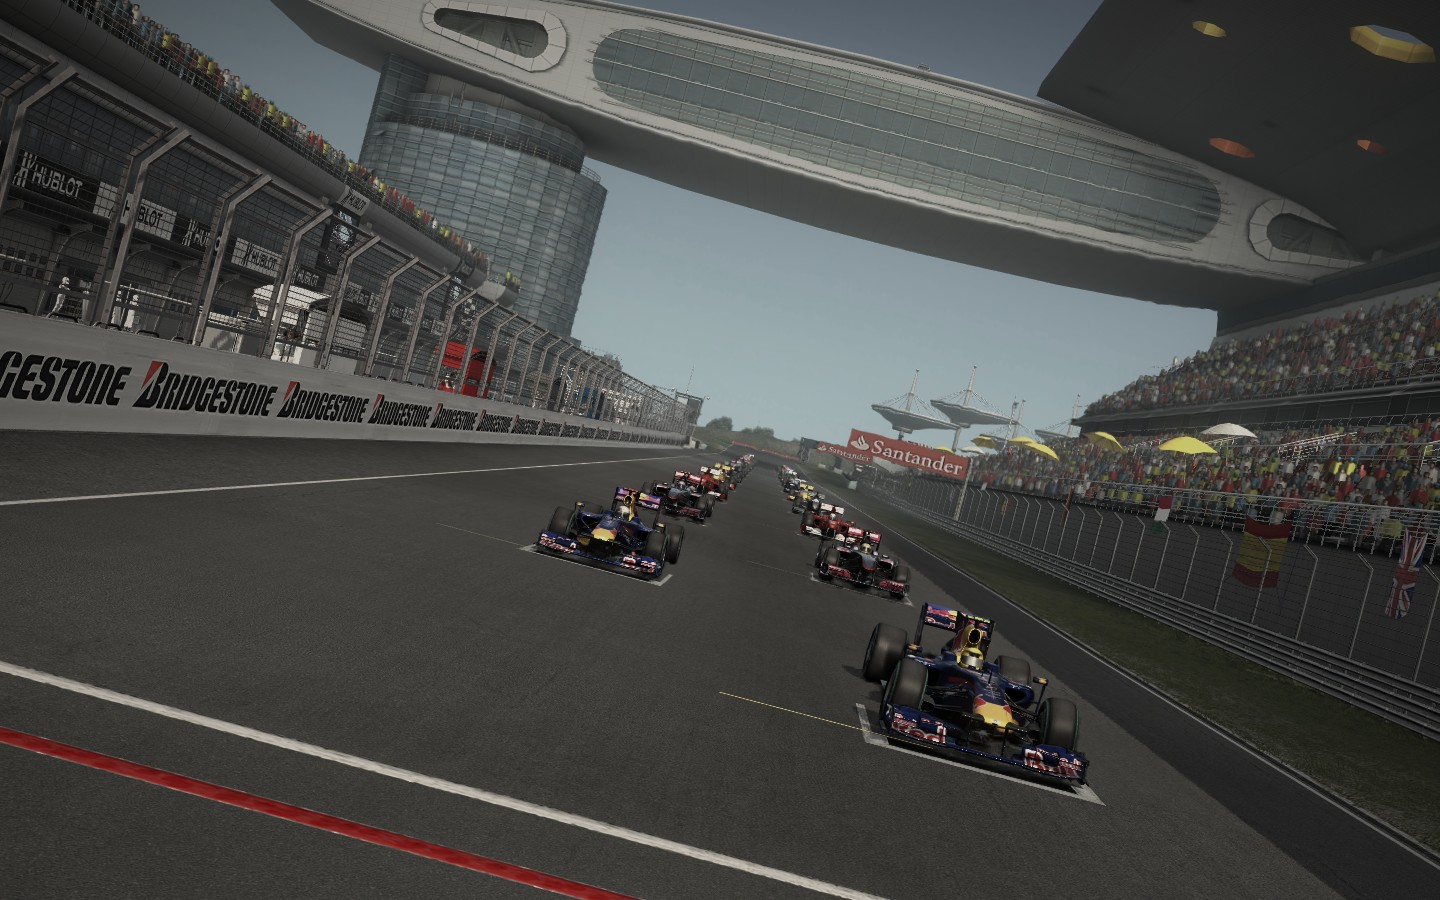f1_car: (845, 589, 1122, 817), (515, 472, 704, 609), (800, 516, 922, 614), (637, 463, 718, 532), (787, 493, 870, 549)
